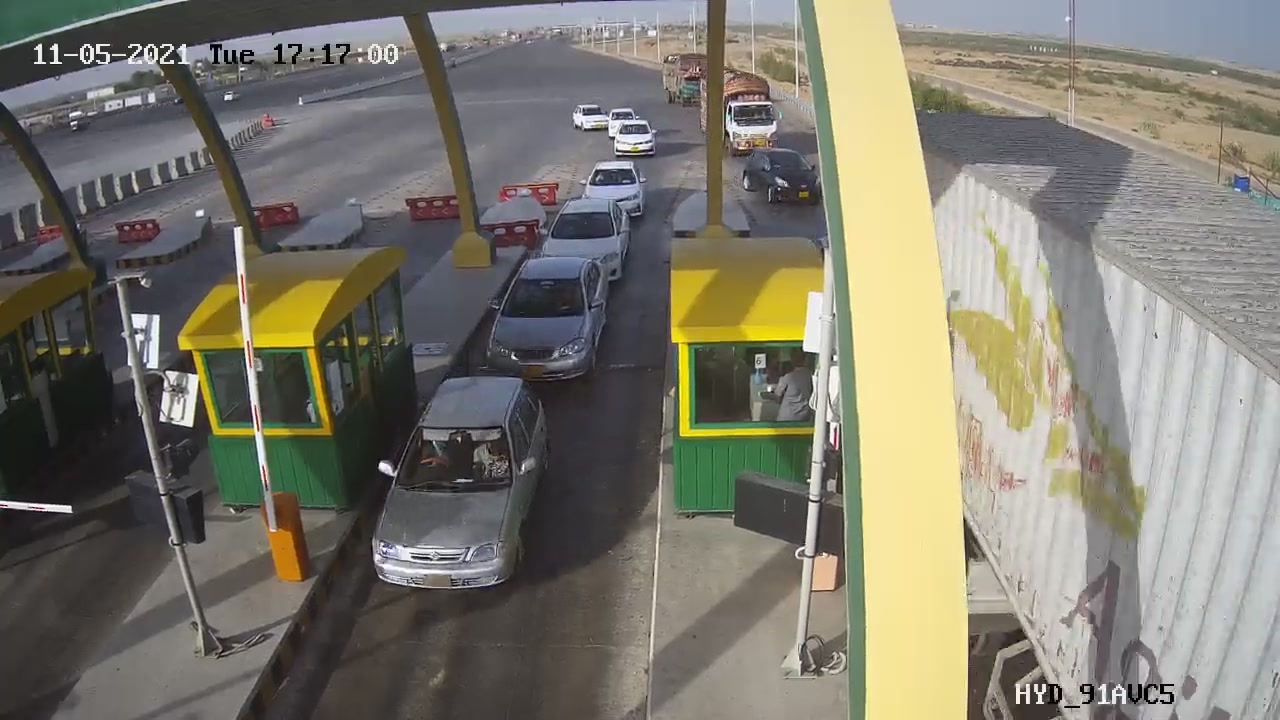F1: (352, 361, 569, 608), (468, 243, 626, 395)
